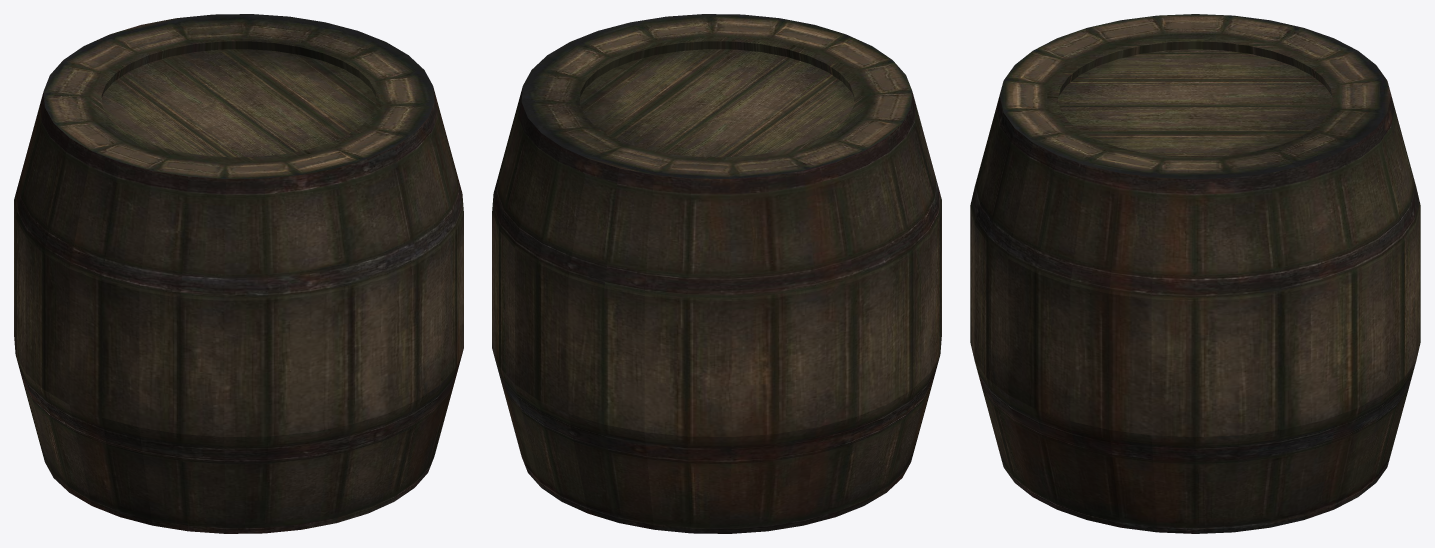
The model's file is barril.fbx.
3 views of the same model, side by side, from view 1: azimuth 30°, elevation 25°; view 2: azimuth 150°, elevation 25°; view 3: azimuth 270°, elevation 25° (orthographic).
Visible parts, largest first — view 1: Cylinder; view 2: Cylinder; view 3: Cylinder.
Part boxes in pixels (x1,y1,x2,y2): Cylinder: (14, 14, 463, 533); Cylinder: (492, 14, 941, 533); Cylinder: (970, 14, 1420, 533).
Size of the model in its own units: 243 by 211 by 243.
Materials: 1 (1 with a texture image).
